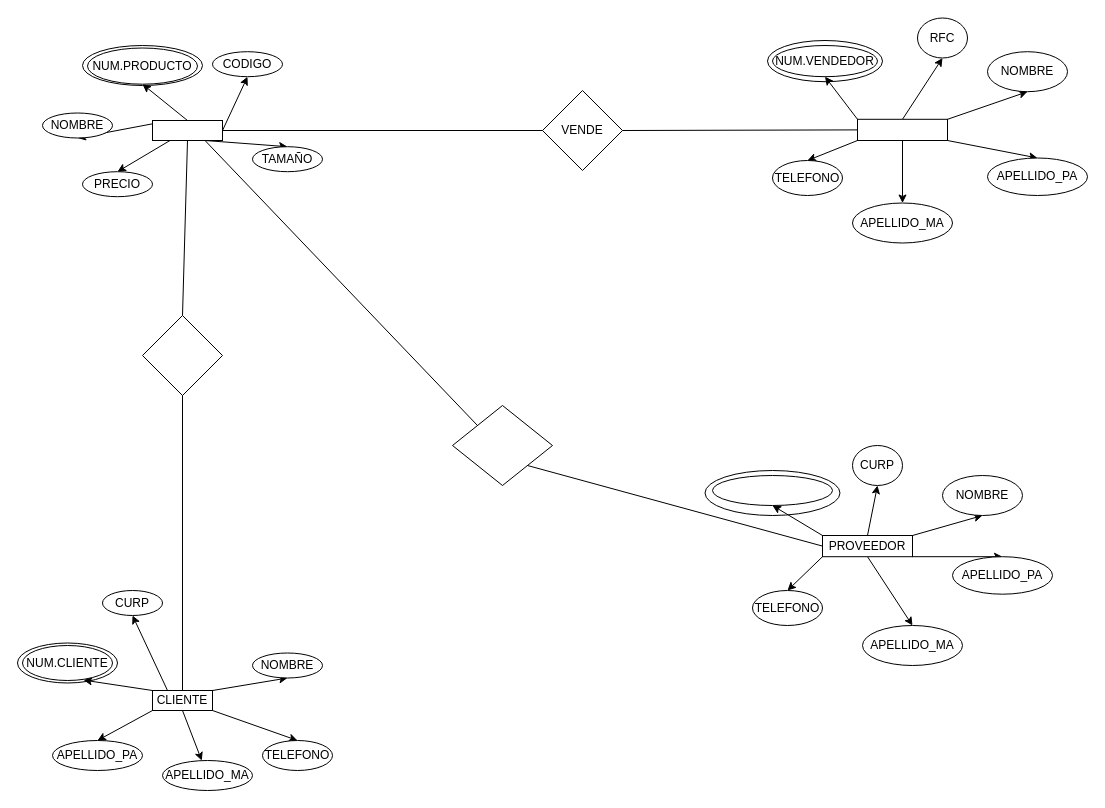
Image size: 1105x808. Some labels were removed from this diagram. The shapes that lost their labels are listed below. From the top down, each one's box as (x1, y1, x2, y2) in pixels, then its label:
(152, 120, 222, 140): PRODUCTO
(856, 118, 948, 140): VENDEDOR
(142, 314, 222, 396): COMPRA
(452, 404, 552, 486): SUMINISTRA
(712, 474, 832, 506): NUM.PROVEEDOR
